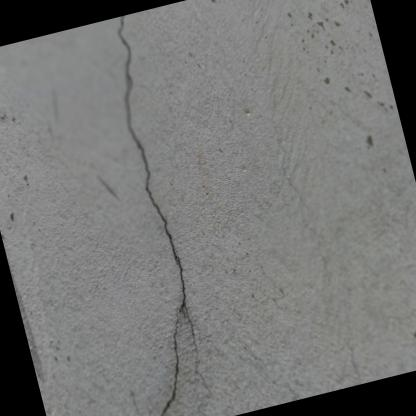crack: (114, 13, 188, 416)
